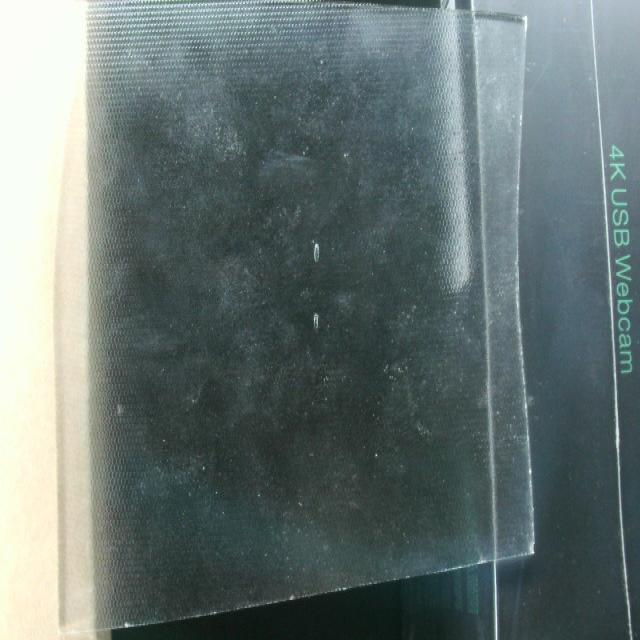edge_chip: (450, 553, 495, 575), (522, 532, 542, 562), (118, 617, 148, 633), (285, 585, 301, 612)
very small scratch: (306, 232, 325, 268), (308, 305, 324, 332)
